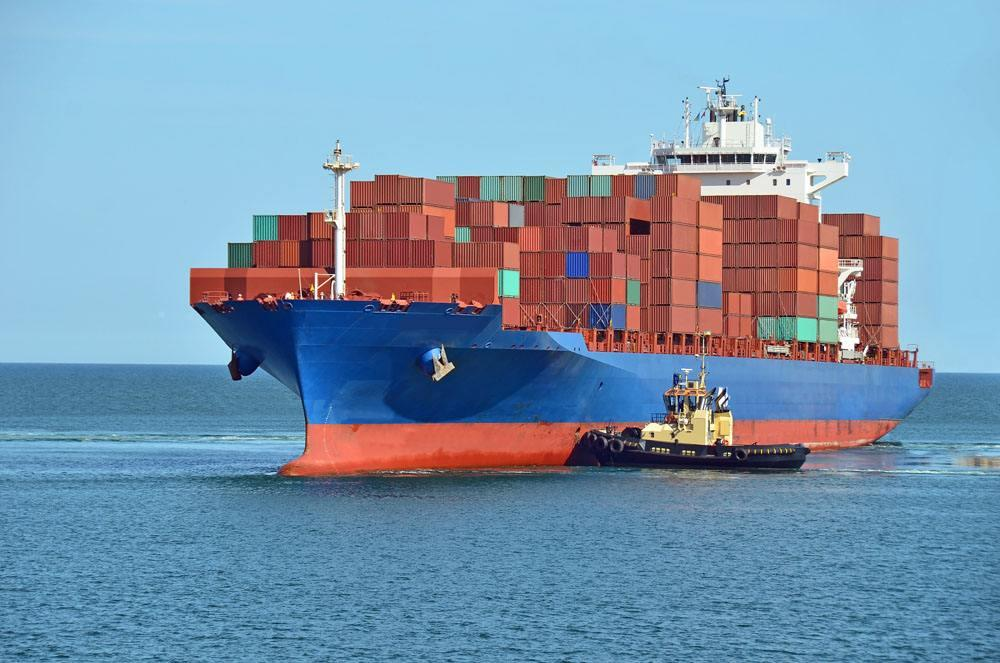Cargoship: (181, 60, 941, 494)
otherboat: (567, 362, 815, 471)
